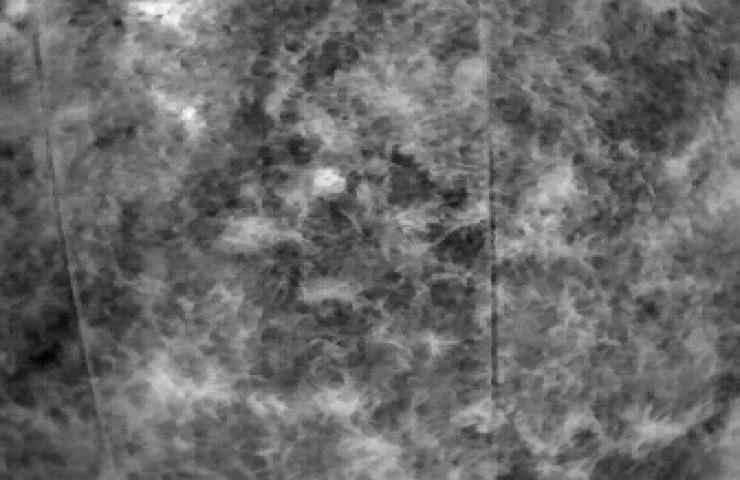landmines: (310, 165, 349, 193)
